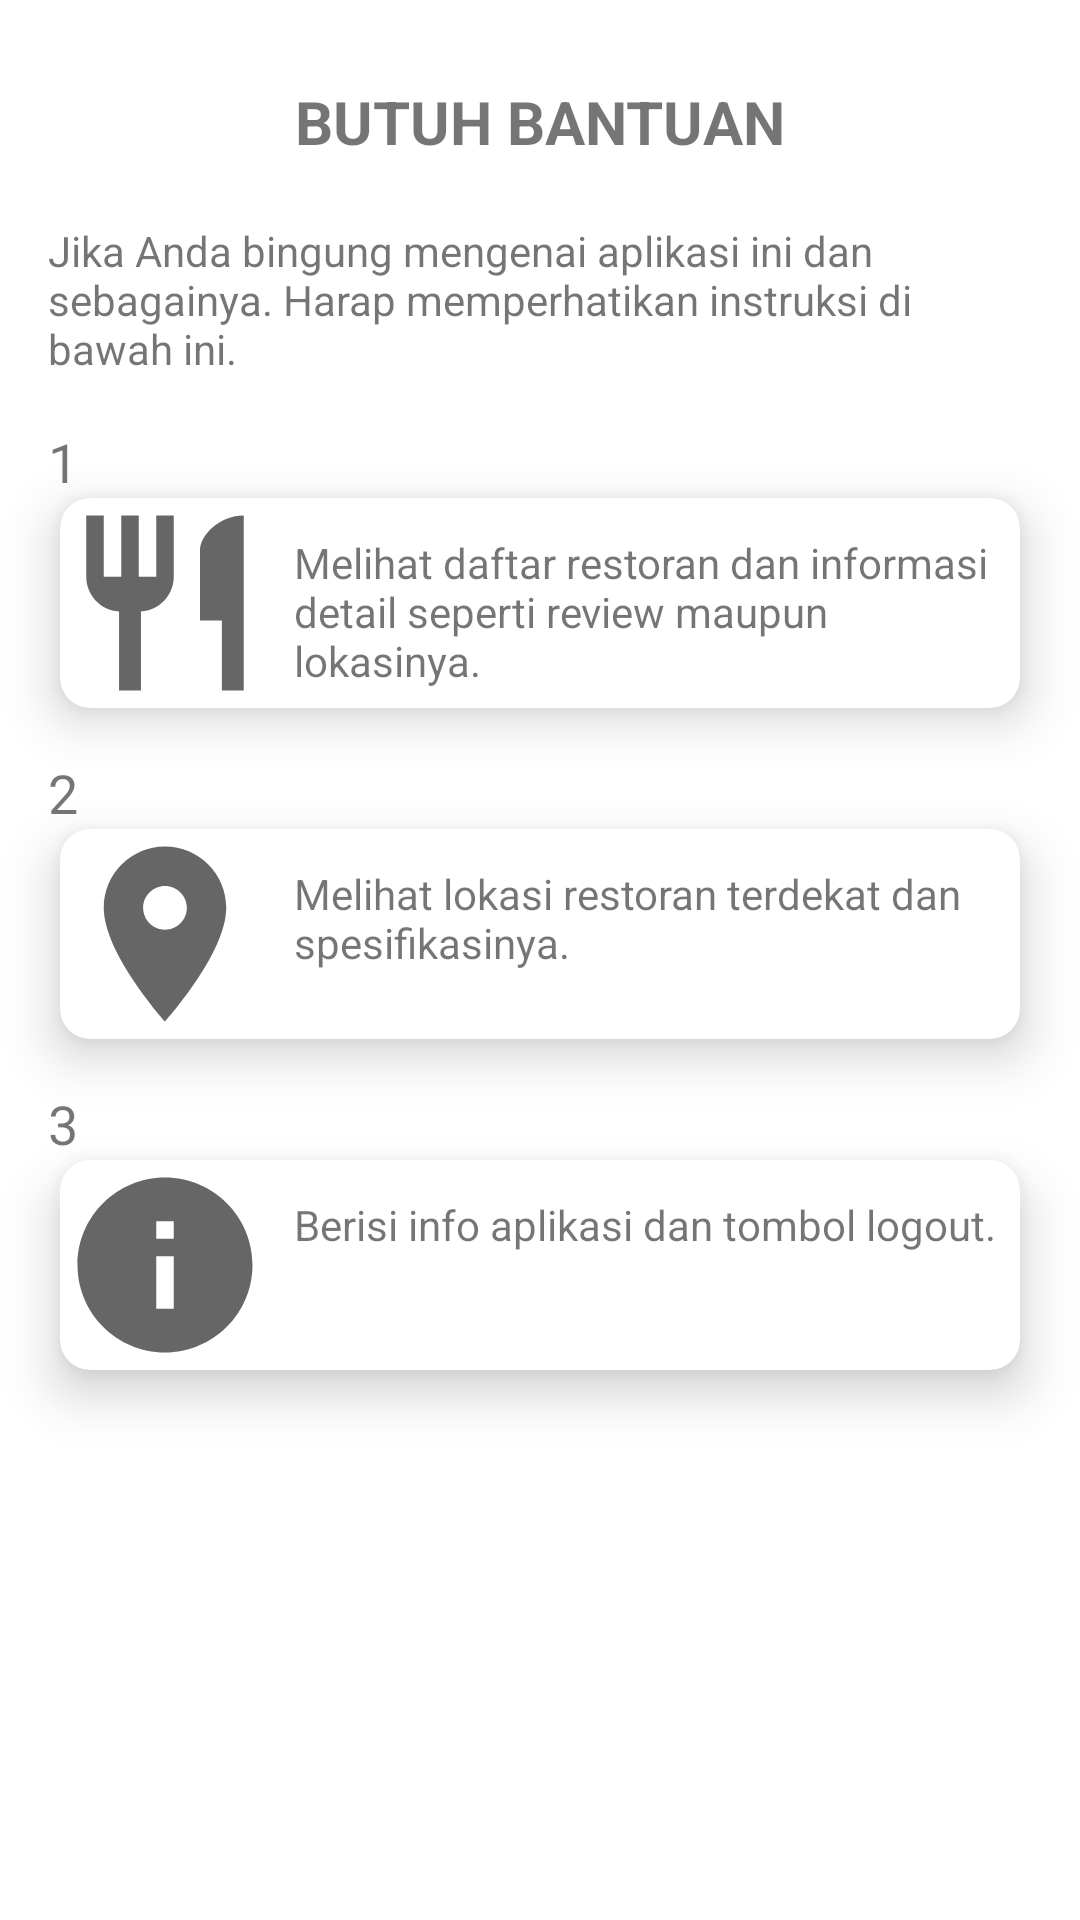

Named icons in this screenshot (1080 × 1920) and their bounding boxes, [x1,y1,x2,y2]:
location on: [103,846,227,1022]
restaurant: [86,515,244,691]
